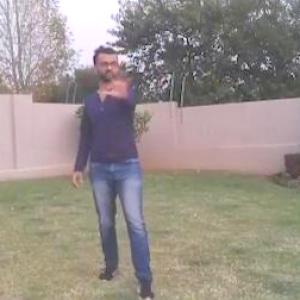follow_hand: (101, 56, 141, 100)
